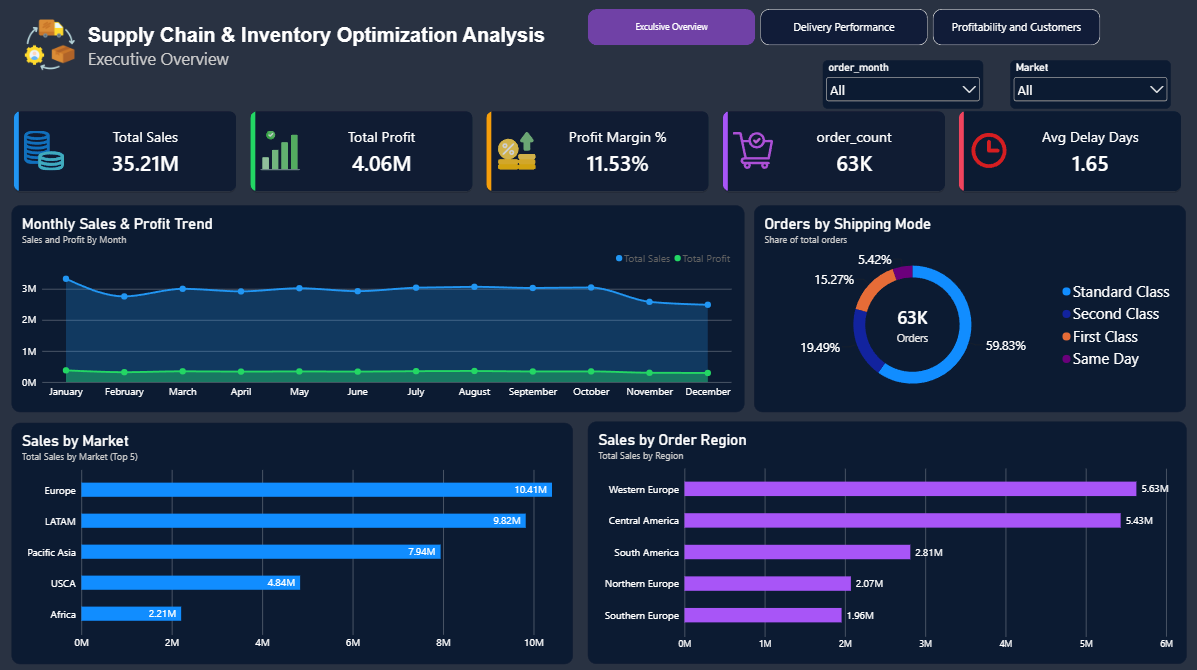

The dashboard page shown, as its layout file describes it:
{"tool":"powerbi","page":{"name":"Exculsive Overview","canvas":[1920,1080],"ordinal":0},"visuals":[{"type":"cardVisual","fields":{"Data":["public staging_orders.Total Sales","public staging_orders.Total Profit","public staging_orders.Profit Margin %","public staging_orders.order_count","public staging_orders.Avg Delay Days"]},"box":[20,176,1878.4,135.7],"z":0},{"type":"textbox","box":[141.2,39.8,747.4,150.2],"z":1000},{"type":"slicer","fields":{"Values":["public staging_orders.Market"]},"box":[1618,98,257,77.8],"z":2000},{"type":"slicer","fields":{"Values":["public staging_orders.order_month"]},"box":[1318,98,257,77.8],"z":3000},{"type":"lineChart","title":"Monthly Sales & Profit Trend","fields":{"Category":["public staging_orders.order date (DateOrders).Variation.Date Hierarchy.Month"],"Y":["public staging_orders.Total Sales","public staging_orders.Total Profit"]},"box":[20,330,1172.7,331.2],"z":4000},{"type":"clusteredBarChart","title":"Sales by Market","fields":{"Category":["public staging_orders.Market"],"Y":["public staging_orders.Total Sales"]},"box":[20,678,898,386],"z":5000},{"type":"donutChart","title":"Orders by Shipping Mode","fields":{"Category":["public staging_orders.Shipping Mode"],"Y":["public staging_orders.order_count"]},"box":[1208,330,691.3,331.2],"z":6000},{"type":"clusteredBarChart","title":"Sales by Order Region","fields":{"Category":["public staging_orders.Order Region"],"Y":["public staging_orders.Total Sales"]},"box":[942,676,958,388],"z":7000},{"type":"image","box":[20,32,122,82],"z":8000},{"type":"pageNavigator","box":[942,16,820,58],"z":8001}]}

Visuals, with their boxes in screenshot pixels (x1, y1, x2, y2), scaled from the page's 1920x1080 canvas onto the 1197x670 screenshot:
cardVisual - public staging_orders.Total Sales x public staging_orders.Total Profit: 12 109 1184 193
textbox: 88 25 554 118
slicer - public staging_orders.Market: 1009 61 1169 109
slicer - public staging_orders.order_month: 822 61 982 109
"Monthly Sales & Profit Trend" lineChart: 12 205 744 410
"Sales by Market" clusteredBarChart: 12 421 572 660
"Orders by Shipping Mode" donutChart: 753 205 1184 410
"Sales by Order Region" clusteredBarChart: 587 419 1185 660
image: 12 20 89 71
pageNavigator: 587 10 1098 46
